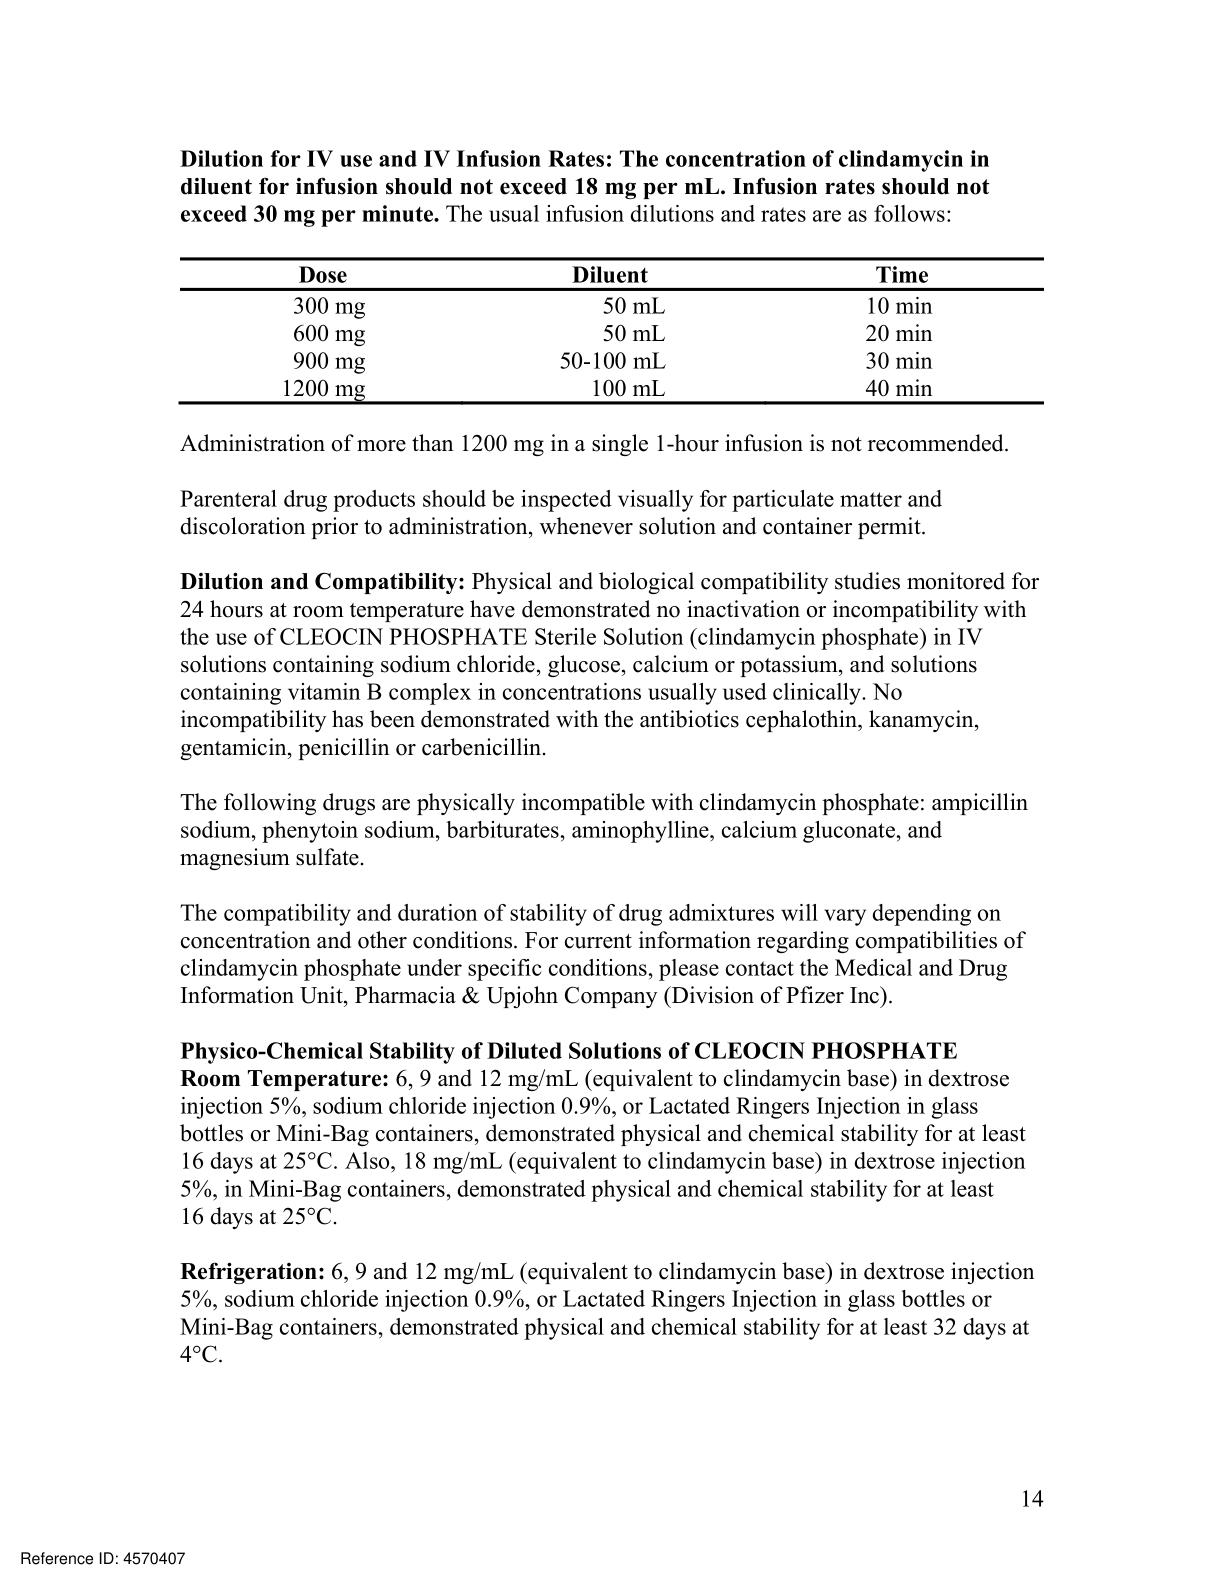partial_lined: (177, 256, 1044, 405)
